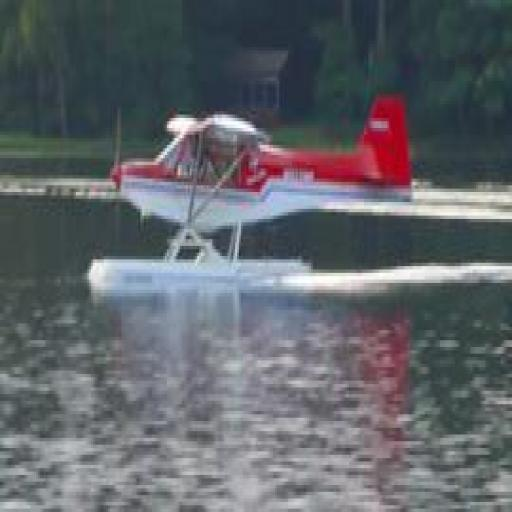aircraft: (85, 94, 419, 290)
